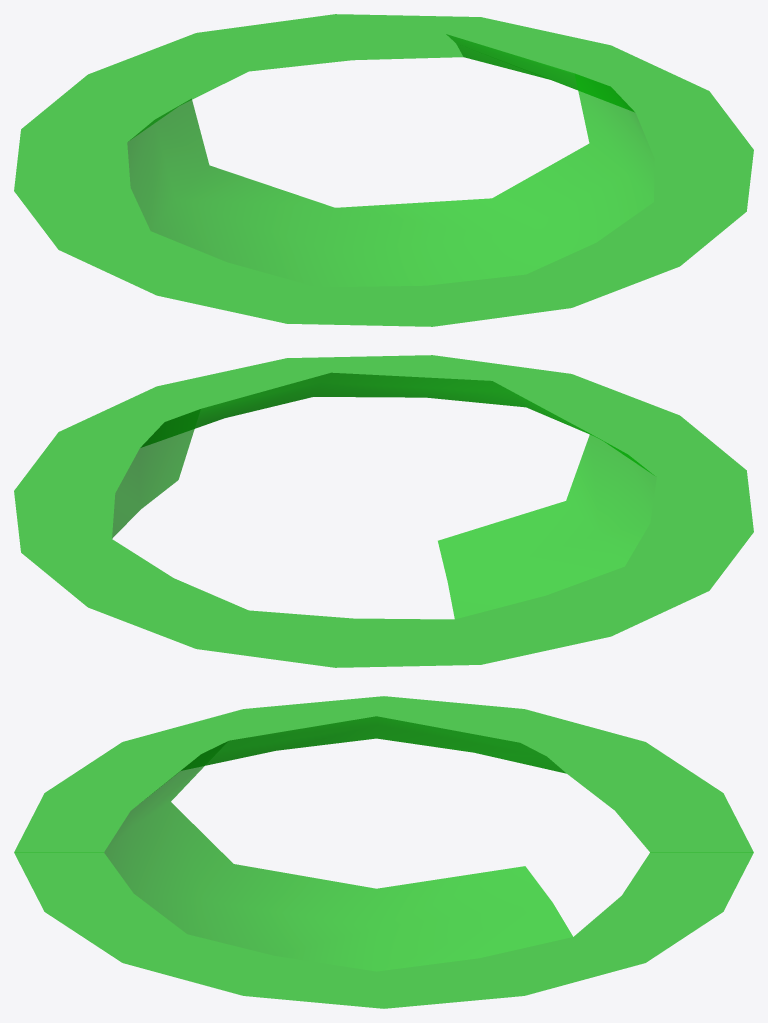
3 views of the same model, one above another, from view 1: azimuth 30°, elevation 25°; view 2: azimuth 150°, elevation 25°; view 3: azimuth 270°, elevation 25° (orthographic).
Visible parts, largest first — view 1: dummy_yksb2; view 2: dummy_yksb2; view 3: dummy_yksb2.
Part boxes in pixels (<box>): dummy_yksb2: <box>14,14,753,326</box>; dummy_yksb2: <box>14,355,753,667</box>; dummy_yksb2: <box>14,696,753,1008</box>.
Size of the model in its own units: 0.8994 by 0.0718 by 0.8994.
